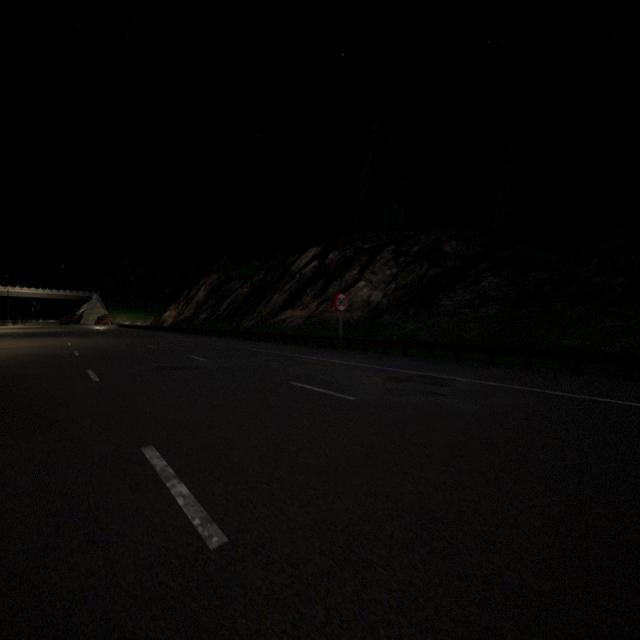Traffic_Signs: (334, 293, 348, 312)
Vehicle: (58, 317, 71, 327)
